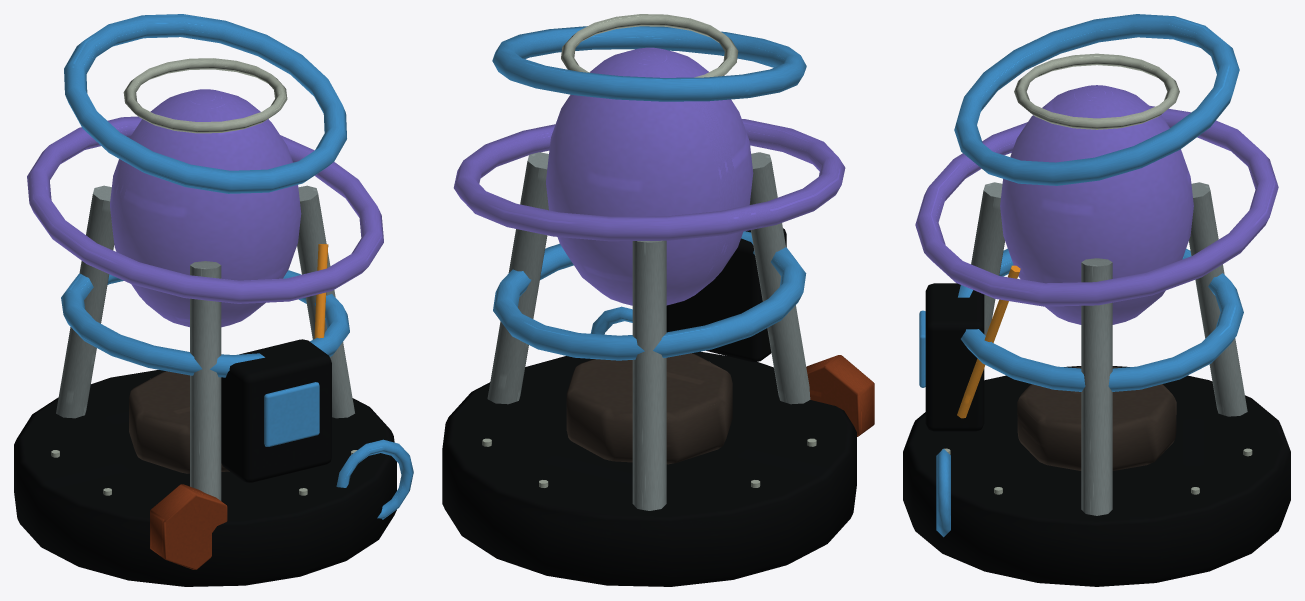
The model's file is reservoir-standard.glb.
3 renders of one model, left to right at view 1: azimuth 30°, elevation 25°; view 2: azimuth 150°, elevation 25°; view 3: azimuth 270°, elevation 25°, orthographic. The views are drawn at different scales.
Parts seen in each view (by area): view 1: Reservoir_Base, ANIM_MATTER_CORE, LEVEL_3.001, LEVEL_2.001, Reservoir_Control_Box, Reservoir_Strut_2, LEVEL_1.001, LEVEL_0.001, Reservoir_Strut_1, PORT_Material.005, Reservoir_Containment_Collar, Reservoir_Strut_0 (+3 smaller); view 2: Reservoir_Base, ANIM_MATTER_CORE, LEVEL_2.001, LEVEL_3.001, LEVEL_0.001, LEVEL_1.001, Reservoir_Strut_1, Reservoir_Strut_2, Reservoir_Strut_0, Reservoir_Control_Box, PORT_Material.005, Reservoir_Containment_Collar (+1 smaller); view 3: Reservoir_Base, ANIM_MATTER_CORE, LEVEL_3.001, LEVEL_2.001, LEVEL_0.001, LEVEL_1.001, Reservoir_Control_Box, Reservoir_Strut_0, Reservoir_Strut_1, Reservoir_Containment_Collar, Reservoir_Strut_2, PORT_Signal.005 (+2 smaller).
Boxes of the visible parts, x1,y1,x2,y2 form: Reservoir_Base: (14, 370, 396, 586); ANIM_MATTER_CORE: (110, 89, 301, 327); LEVEL_3.001: (64, 14, 346, 193); LEVEL_2.001: (27, 116, 383, 303); Reservoir_Control_Box: (221, 339, 331, 482); Reservoir_Strut_2: (190, 261, 221, 500); LEVEL_1.001: (61, 270, 349, 377); LEVEL_0.001: (129, 371, 229, 473); Reservoir_Strut_1: (56, 185, 114, 418); PORT_Material.005: (150, 484, 227, 569); Reservoir_Containment_Collar: (123, 58, 287, 133); Reservoir_Strut_0: (297, 185, 354, 418); Reservoir_Base: (442, 351, 856, 586); ANIM_MATTER_CORE: (546, 47, 753, 305); LEVEL_2.001: (453, 119, 845, 241); LEVEL_3.001: (492, 26, 806, 101); LEVEL_0.001: (566, 353, 732, 464); LEVEL_1.001: (493, 231, 806, 360); Reservoir_Strut_1: (632, 240, 666, 510); Reservoir_Strut_2: (749, 152, 810, 404); Reservoir_Strut_0: (487, 152, 548, 404); Reservoir_Control_Box: (666, 228, 786, 362); PORT_Material.005: (806, 355, 874, 436); Reservoir_Containment_Collar: (561, 14, 738, 77); Reservoir_Base: (903, 366, 1290, 586); ANIM_MATTER_CORE: (1000, 85, 1193, 324); LEVEL_3.001: (954, 14, 1239, 185); LEVEL_2.001: (915, 105, 1278, 306); LEVEL_0.001: (1017, 366, 1176, 470); LEVEL_1.001: (958, 248, 1243, 391); Reservoir_Control_Box: (925, 283, 984, 431); Reservoir_Strut_0: (1081, 258, 1112, 515); Reservoir_Strut_1: (1189, 182, 1247, 416); Reservoir_Containment_Collar: (1014, 53, 1179, 129); Reservoir_Strut_2: (971, 182, 1004, 335); PORT_Signal.005: (936, 448, 950, 537).
Size of the model in its own units: 0.86 by 1.1 by 0.86.
8 materials, 8 textured.
